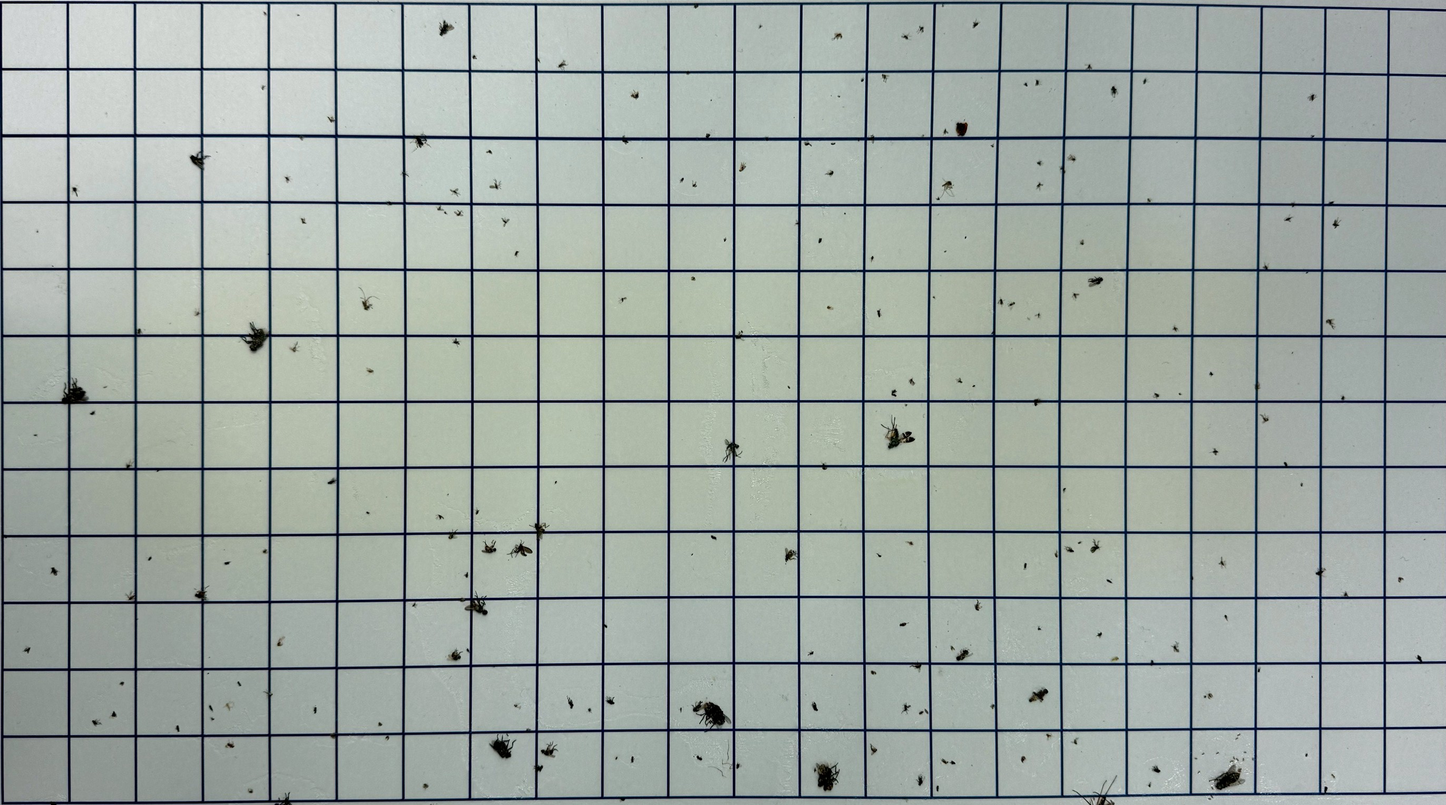fly: (701, 701, 731, 732), (1210, 768, 1247, 791), (244, 321, 270, 352), (60, 379, 90, 404), (490, 733, 517, 759), (816, 762, 839, 792), (464, 593, 490, 616), (189, 150, 214, 173)
test: (884, 415, 914, 452), (532, 518, 552, 538), (510, 540, 532, 558), (726, 439, 743, 462), (940, 178, 955, 200), (412, 133, 429, 152), (438, 19, 455, 37), (539, 743, 558, 758), (1029, 688, 1049, 702), (782, 546, 797, 562), (955, 121, 969, 137), (481, 540, 498, 553), (360, 297, 375, 311), (1090, 538, 1102, 555), (450, 648, 464, 662), (489, 178, 504, 191), (1089, 276, 1106, 287), (957, 649, 972, 661), (194, 588, 208, 600), (692, 701, 706, 713), (868, 739, 878, 755), (1325, 317, 1337, 329), (447, 531, 459, 542), (734, 331, 745, 342), (501, 216, 511, 228), (290, 341, 300, 353), (831, 30, 844, 39), (910, 661, 923, 670), (556, 59, 567, 69), (451, 337, 462, 347), (606, 695, 616, 706), (818, 462, 828, 473), (970, 18, 981, 28), (903, 704, 913, 715), (1332, 218, 1342, 229), (449, 188, 461, 197), (453, 209, 465, 218), (620, 134, 629, 146), (567, 698, 575, 711), (739, 161, 747, 174), (126, 593, 136, 603), (223, 702, 233, 712), (1151, 764, 1161, 774), (71, 186, 80, 197), (1171, 643, 1180, 654), (1315, 568, 1326, 577), (1260, 412, 1269, 423), (631, 90, 639, 102), (975, 599, 983, 611), (812, 701, 819, 714), (1032, 401, 1045, 408), (1307, 93, 1317, 102), (535, 761, 543, 772), (1110, 86, 1118, 97), (916, 774, 923, 786), (327, 114, 336, 123), (124, 460, 133, 469), (1218, 558, 1227, 567), (1210, 447, 1219, 456), (49, 567, 59, 575), (276, 637, 284, 647), (881, 73, 889, 83), (803, 139, 813, 147), (1008, 298, 1016, 308), (824, 170, 835, 177), (300, 217, 308, 226), (264, 690, 273, 698), (1415, 654, 1424, 662), (472, 507, 479, 517), (824, 304, 834, 311), (1035, 311, 1042, 321), (1064, 546, 1074, 553), (1110, 656, 1120, 663), (23, 646, 31, 654), (696, 754, 704, 762), (402, 170, 410, 178), (92, 719, 101, 726), (226, 742, 235, 749), (486, 148, 493, 157), (907, 378, 916, 385), (899, 621, 908, 628), (1256, 381, 1262, 391), (436, 205, 444, 212), (367, 367, 375, 374), (262, 547, 269, 555), (902, 33, 910, 40), (1036, 183, 1044, 190), (1172, 324, 1179, 332), (949, 644, 956, 652), (1044, 733, 1052, 740), (1146, 781, 1153, 789), (942, 128, 949, 136), (999, 298, 1004, 309), (327, 479, 336, 485), (111, 710, 117, 719), (175, 724, 181, 733), (329, 733, 338, 739), (618, 297, 627, 303), (1284, 216, 1293, 222), (1035, 78, 1040, 88), (904, 541, 914, 546), (194, 311, 201, 318), (224, 559, 231, 566), (917, 25, 924, 32), (1086, 64, 1093, 71), (1019, 756, 1026, 763), (1073, 737, 1080, 744), (1342, 591, 1349, 598), (1397, 576, 1404, 583), (260, 84, 267, 91), (137, 327, 143, 335), (629, 756, 635, 764), (806, 650, 814, 656), (514, 250, 520, 258), (691, 181, 697, 189), (1036, 160, 1044, 166), (1323, 786, 1329, 794), (436, 513, 445, 518), (708, 536, 717, 541), (936, 782, 941, 791), (285, 175, 291, 182), (236, 680, 242, 687), (247, 788, 254, 794), (422, 782, 429, 788), (679, 177, 685, 184), (705, 133, 711, 140), (875, 308, 881, 315), (890, 388, 897, 394), (1060, 167, 1066, 174), (1070, 156, 1077, 162), (956, 378, 963, 384), (1154, 392, 1160, 399), (1053, 552, 1059, 559), (941, 759, 948, 765), (1106, 577, 1112, 584), (1283, 461, 1289, 468), (1263, 264, 1269, 271), (1328, 200, 1335, 206), (1207, 692, 1213, 699), (386, 200, 393, 206), (299, 135, 305, 142), (1023, 562, 1028, 570), (1224, 614, 1229, 622), (464, 571, 469, 579), (147, 556, 153, 562), (377, 721, 383, 727), (384, 735, 390, 741), (871, 670, 877, 676), (1331, 773, 1337, 779), (1340, 395, 1346, 401), (602, 623, 608, 629), (693, 3, 699, 9), (90, 409, 95, 416), (119, 681, 126, 686), (209, 704, 214, 711), (1143, 78, 1148, 85), (877, 552, 882, 559), (951, 759, 958, 764), (1037, 625, 1042, 632), (924, 708, 929, 715), (412, 602, 417, 608), (818, 238, 823, 244), (870, 255, 875, 261), (1146, 197, 1152, 202), (1079, 240, 1085, 245), (918, 710, 924, 715), (991, 702, 996, 708), (1097, 632, 1103, 637), (1150, 660, 1155, 666), (736, 763, 741, 769), (513, 703, 519, 708), (443, 210, 448, 216), (860, 77, 865, 83), (1291, 202, 1296, 208), (691, 276, 696, 282), (526, 727, 531, 733), (471, 55, 478, 59), (1063, 486, 1067, 493), (619, 797, 626, 801), (210, 716, 215, 721), (1023, 82, 1028, 87), (1209, 371, 1214, 376), (1232, 755, 1237, 760), (795, 221, 800, 226), (936, 196, 941, 201), (990, 143, 995, 148), (758, 24, 763, 29), (262, 11, 267, 16), (314, 706, 317, 714), (1257, 667, 1261, 673), (679, 707, 683, 713), (459, 598, 465, 602), (1229, 759, 1235, 763), (723, 237, 727, 243), (1073, 294, 1078, 298), (1311, 134, 1316, 138), (466, 648, 470, 653), (1304, 753, 1308, 758), (1203, 695, 1207, 700), (1236, 733, 1241, 737), (1210, 794, 1215, 798), (1236, 757, 1240, 762), (1300, 482, 1304, 487), (1077, 541, 1082, 545), (103, 385, 108, 389), (831, 142, 836, 146), (972, 384, 976, 388), (904, 403, 908, 407), (554, 480, 558, 484), (1216, 751, 1220, 755), (1201, 752, 1205, 756), (1194, 757, 1198, 761), (1197, 770, 1201, 774), (1211, 786, 1215, 790), (1243, 750, 1247, 754), (34, 433, 38, 437), (1305, 271, 1309, 275), (932, 296, 936, 300), (36, 230, 40, 234), (787, 385, 790, 390), (1207, 797, 1212, 800), (1242, 757, 1245, 762), (588, 708, 591, 712), (615, 756, 618, 760), (1251, 758, 1255, 761), (1178, 393, 1182, 396), (1291, 351, 1294, 355), (156, 469, 160, 472), (964, 236, 967, 240), (944, 250, 947, 254), (837, 95, 841, 98), (941, 3, 944, 7), (297, 13, 300, 17), (691, 553, 694, 556), (366, 511, 369, 514), (207, 672, 210, 675), (1235, 737, 1238, 740), (1311, 676, 1314, 678), (844, 212, 846, 215), (710, 99, 712, 102)
